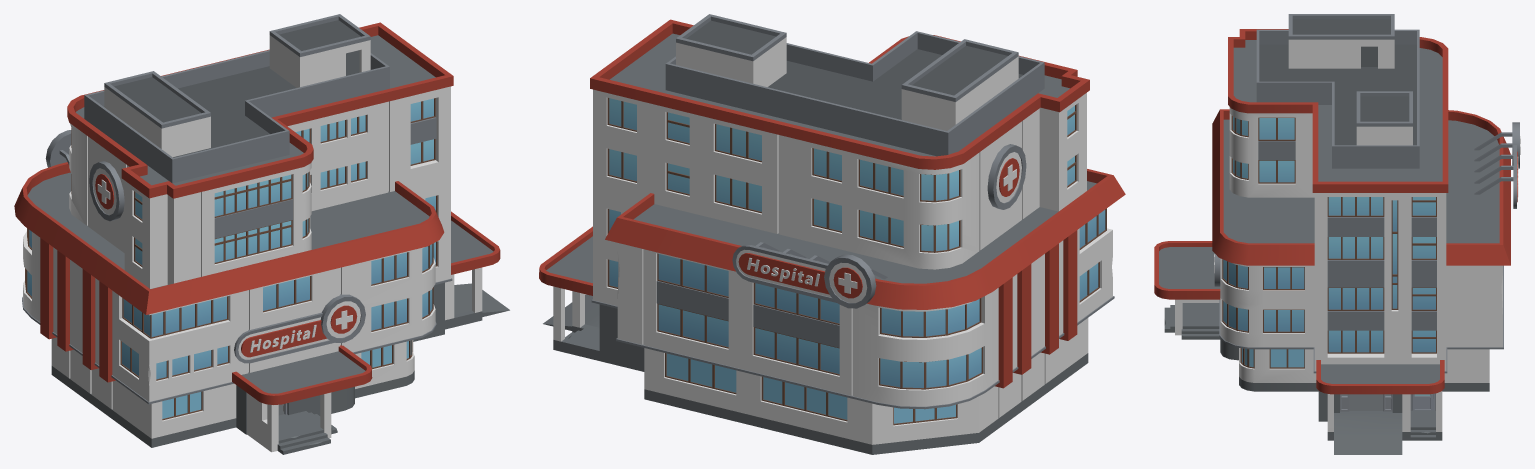
File: SM_Buildings_Hospital_01.fbx
The picture shows the model from 3 angles, left to right: view 1: azimuth 30°, elevation 25°; view 2: azimuth 150°, elevation 25°; view 3: azimuth 270°, elevation 25°; orthographic projection. The views are drawn at different scales.
Parts seen in each view (by area): view 1: SM_Buildings_Hospital_01; view 2: SM_Buildings_Hospital_01; view 3: SM_Buildings_Hospital_01.
Part boxes in pixels (left/top/right/bottom): SM_Buildings_Hospital_01: left=14, top=14, right=509, bottom=454; SM_Buildings_Hospital_01: left=539, top=14, right=1125, bottom=454; SM_Buildings_Hospital_01: left=1154, top=14, right=1520, bottom=454.
Bounding box in the file's own units: 24.39 × 16.05 × 19.43.
